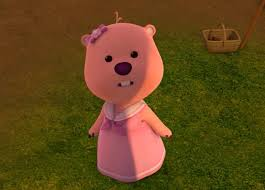Loopy: (79, 10, 175, 184)
